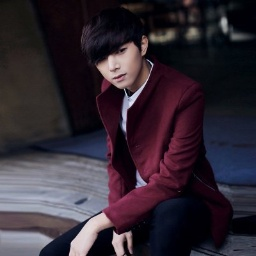face: (81, 9, 149, 88)
